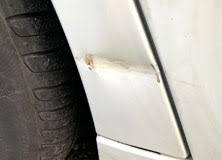scratch: (82, 48, 164, 92)
